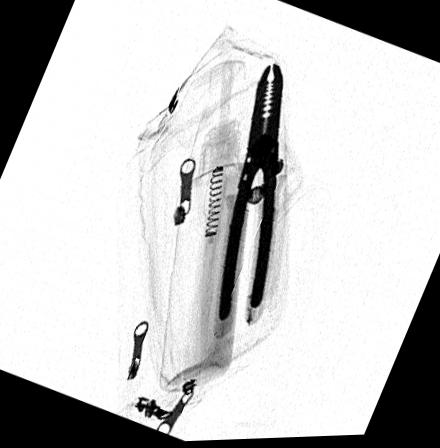Pliers: (214, 64, 285, 331)
